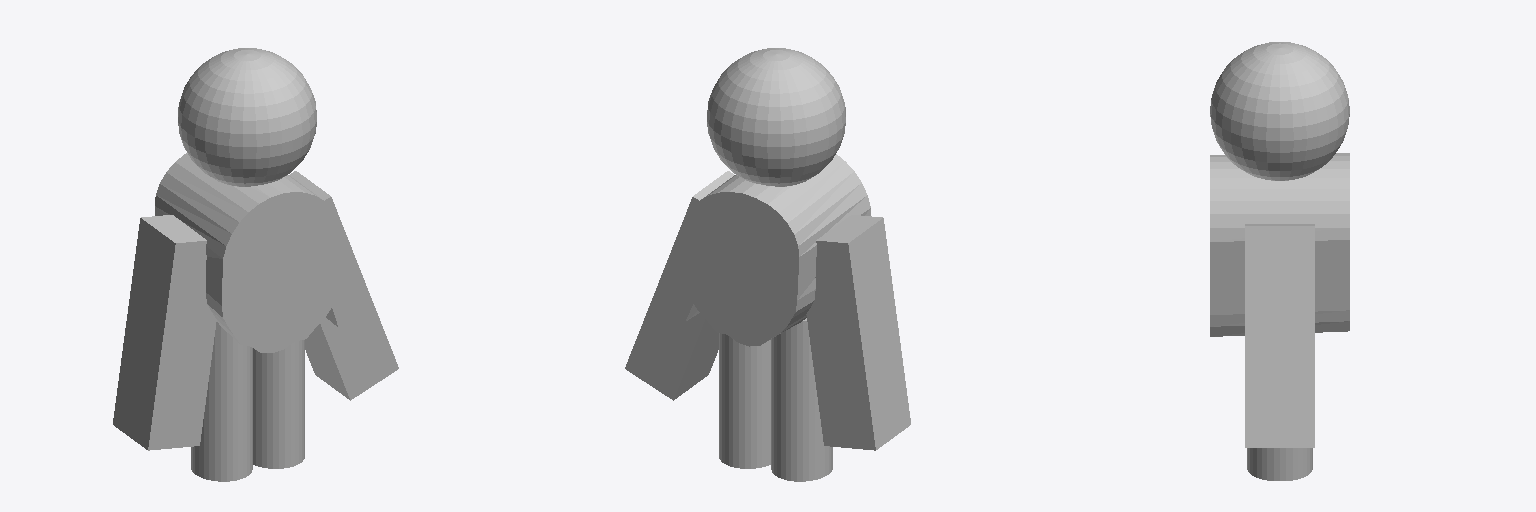
File: Figurine53.obj
3 views of the same model, side by side, from view 1: azimuth 30°, elevation 25°; view 2: azimuth 150°, elevation 25°; view 3: azimuth 270°, elevation 25° (orthographic).
Parts seen in each view (by area): view 1: Cylinder; view 2: Cylinder; view 3: Cylinder.
Boxes of the visible parts, <box> form: Cylinder: <box>113,48,398,481</box>; Cylinder: <box>625,48,910,481</box>; Cylinder: <box>1210,42,1349,480</box>.
Size of the model in its own units: 4.14 by 6.42 by 2.